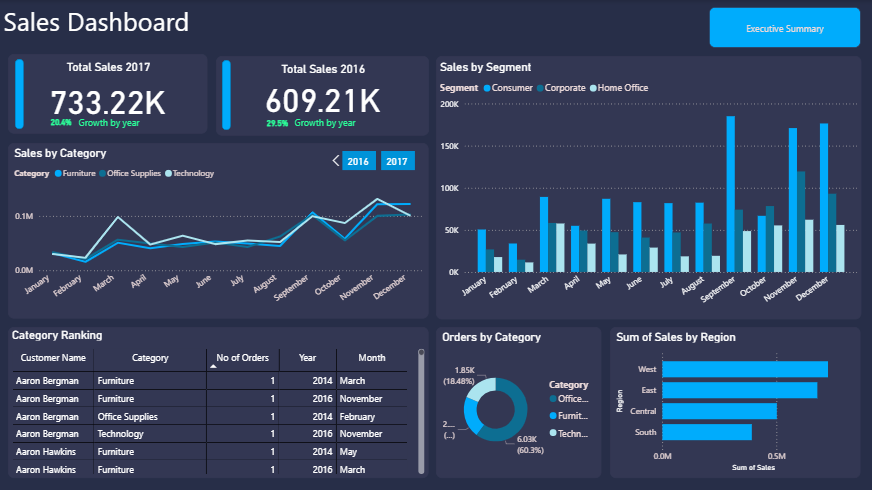

The page's visual inventory and layout, read from the dashboard file:
{"tool":"powerbi","page":{"name":"Page 1","canvas":[1280,720],"ordinal":0},"visuals":[{"type":"cardVisual","title":"Total Sales 2017","fields":{"Data":["Sample - Superstore.Total Sales 2017"]},"box":[11.7,80,293.3,116.7],"z":0},{"type":"cardVisual","title":"Total Sales 2016","fields":{"Data":["Sample - Superstore.Total Sales 2016"]},"box":[316.7,81.7,313.3,116.7],"z":1000},{"type":"lineChart","title":"Sales by Category","fields":{"Category":["Sample - Superstore.Order Date.Variation.Date Hierarchy.Year","Sample - Superstore.Order Date.Variation.Date Hierarchy.Quarter","Sample - Superstore.Order Date.Variation.Date Hierarchy.Month","Sample - Superstore.Order Date.Variation.Date Hierarchy.Day"],"Y":["Sample - Superstore.Sales"],"Series":["Sample - Superstore.Category"]},"box":[11.7,210,618.3,258.3],"z":2000},{"type":"clusteredColumnChart","title":"Sales by Segment","fields":{"Category":["Sample - Superstore.Order Date.Variation.Date Hierarchy.Year","Sample - Superstore.Order Date.Variation.Date Hierarchy.Quarter","Sample - Superstore.Order Date.Variation.Date Hierarchy.Month","Sample - Superstore.Order Date.Variation.Date Hierarchy.Day"],"Y":["Sample - Superstore.Sales"],"Series":["Sample - Superstore.Segment"]},"box":[640,81.7,625,386.7],"z":3000},{"type":"donutChart","title":"Orders by Category","fields":{"Y":["Sample - Superstore.Order ID"],"Category":["Sample - Superstore.Category"]},"box":[640,480,243.3,221.7],"z":4000},{"type":"clusteredBarChart","fields":{"Category":["Sample - Superstore.Region"],"Y":["Sample - Superstore.Sales"]},"box":[896.7,480,368.3,221.7],"z":5000},{"type":"cardVisual","fields":{"Data":["Sample - Superstore.Growth 2016"]},"box":[380.7,155.7,60,42.1],"z":6000},{"type":"cardVisual","fields":{"Data":["Sample - Superstore.Growth 2017"]},"box":[63.6,154.3,60,42.1],"z":7000},{"type":"textbox","box":[428.2,166.4,118.2,43.6],"z":8000},{"type":"textbox","box":[110,166.7,120,31.7],"z":9000},{"type":"advancedSlicerVisual","fields":{"Values":["Sample - Superstore.Order Date.Variation.Date Hierarchy.Year"]},"box":[482.9,221.4,147.1,28.6],"z":10000},{"type":"textbox","box":[0,0,315.9,79.3],"z":11000},{"type":"tableEx","title":"Category Ranking","fields":{"Values":["Sample - Superstore.Customer Name","Sample - Superstore.Category","Sample - Superstore.Order ID","Sample - Superstore.Order Date.Variation.Date Hierarchy.Year","Sample - Superstore.Order Date.Variation.Date Hierarchy.Month"]},"box":[11.7,480,618.3,221.7],"z":12000},{"type":"shape","box":[21.4,87.1,12.9,102.9],"z":13000},{"type":"shape","box":[325.7,88.6,12.9,102.9],"z":14000},{"type":"actionButton","box":[1041.7,10,223.3,60],"z":16000}]}

Visuals, with their boxes in screenshot pixels (x1, y1, x2, y2), scaled from the page's 1280x720 canvas onto the 872x490 screenshot:
"Total Sales 2017" cardVisual: detection(8, 54, 208, 134)
"Total Sales 2016" cardVisual: detection(216, 56, 429, 135)
"Sales by Category" lineChart: detection(8, 143, 429, 319)
"Sales by Segment" clusteredColumnChart: detection(436, 56, 862, 319)
"Orders by Category" donutChart: detection(436, 327, 602, 478)
clusteredBarChart - Sample - Superstore.Region x Sample - Superstore.Sales: detection(611, 327, 862, 478)
cardVisual - Sample - Superstore.Growth 2016: detection(259, 106, 300, 135)
cardVisual - Sample - Superstore.Growth 2017: detection(43, 105, 84, 134)
textbox: detection(292, 113, 372, 143)
textbox: detection(75, 113, 157, 135)
advancedSlicerVisual - Sample - Superstore.Order Date.Variation.Date Hierarchy.Year: detection(329, 151, 429, 170)
textbox: detection(0, 0, 215, 54)
"Category Ranking" tableEx: detection(8, 327, 429, 478)
shape: detection(15, 59, 23, 129)
shape: detection(222, 60, 231, 130)
actionButton: detection(710, 7, 862, 48)
